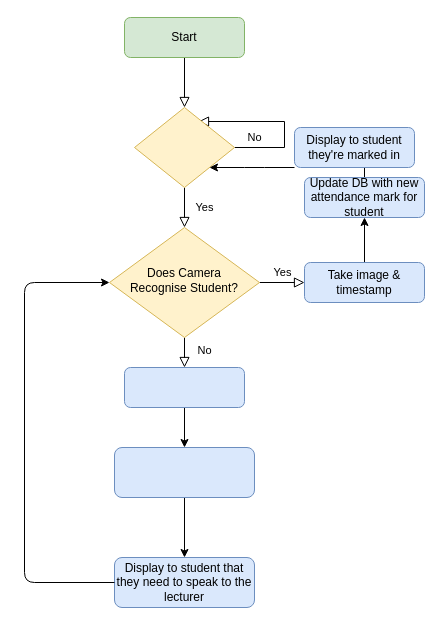
Some shapes in this 442 by 625 pixel diagram are drawn without their labels. Here are the shapes that lost their labels. From the top down, the centre of each, then its label:
point 184,147: Is event ongoing?
point 184,387: Take image and timestamp
point 184,472: Store image and timestamp under "unrecognized" on DB
